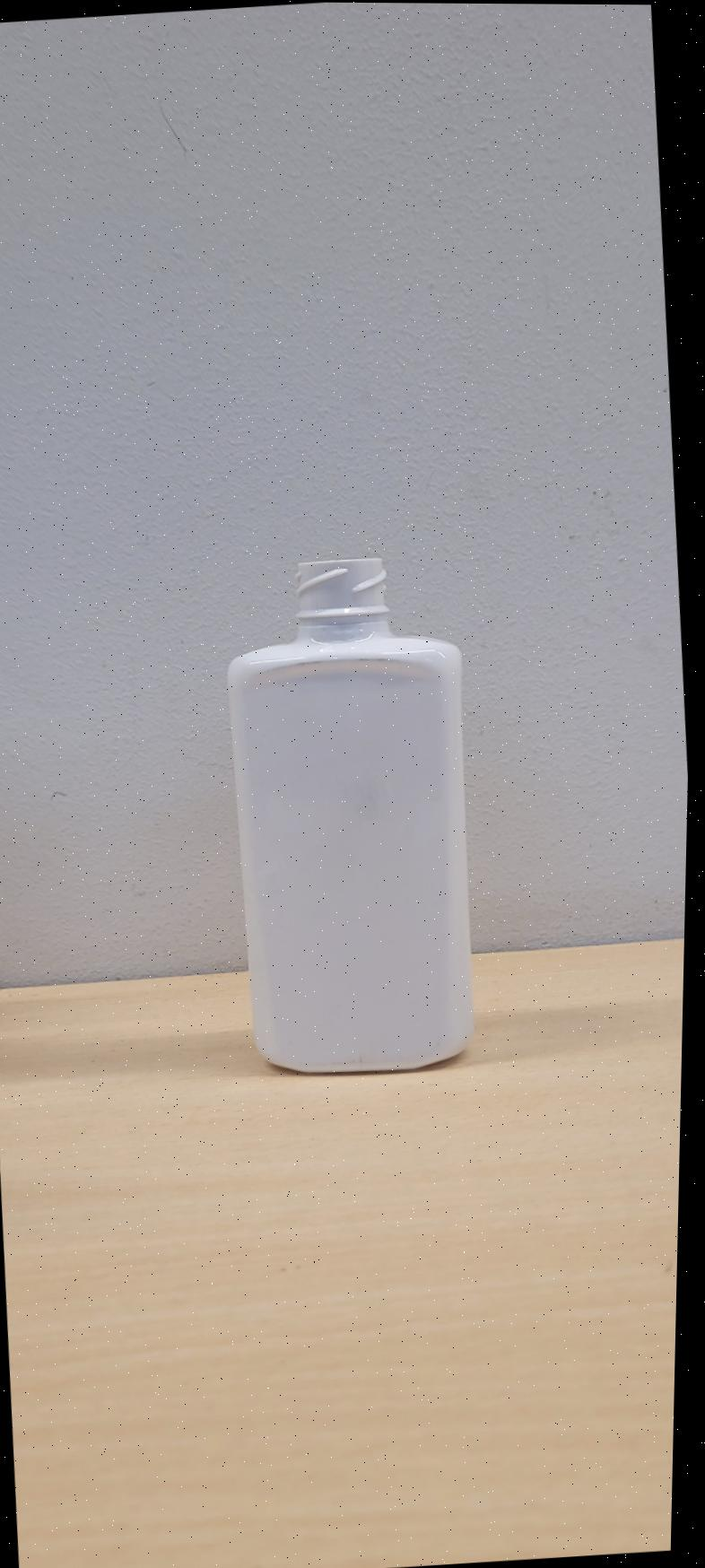bottle: (228, 557, 474, 1073)
